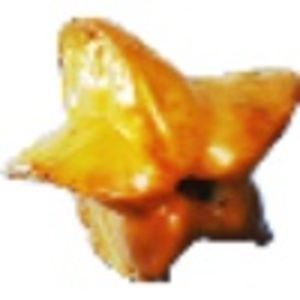carambola: (1, 14, 300, 286)
